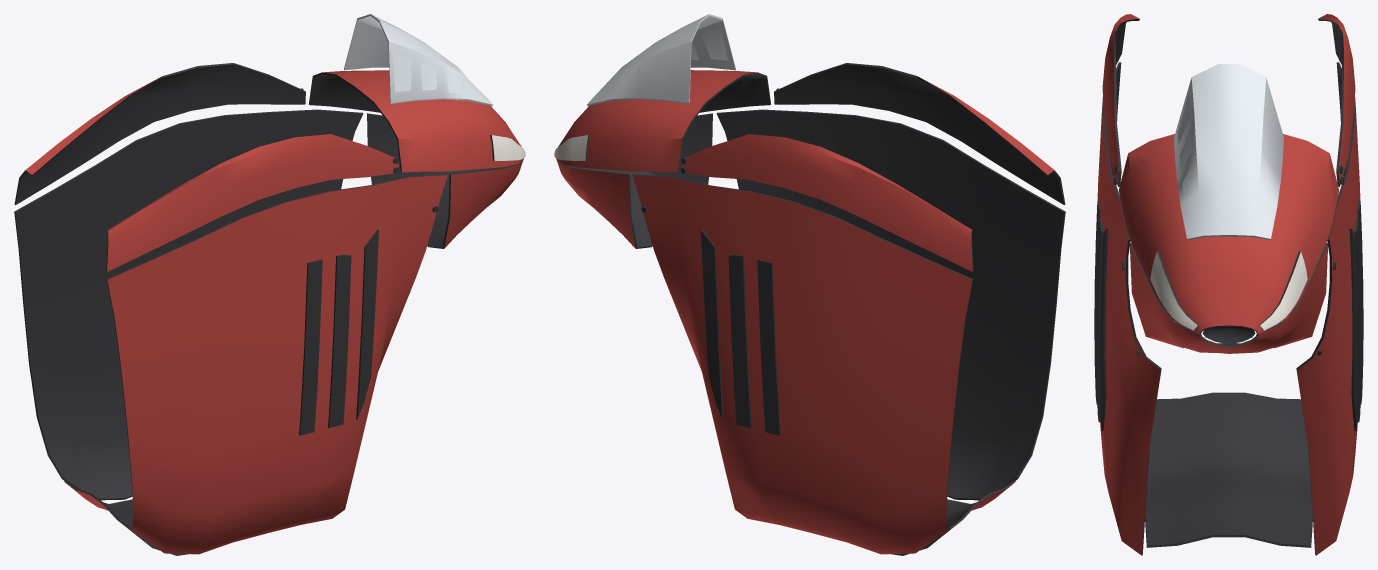
Rendered from sport_lod1.glb.
3 views of the same model, side by side, from view 1: azimuth 30°, elevation 25°; view 2: azimuth 150°, elevation 25°; view 3: azimuth 270°, elevation 25° (orthographic). The views are drawn at different scales.
Visible parts, largest first — view 1: sport_lod1; view 2: sport_lod1; view 3: sport_lod1.
Boxes of the visible parts, x1,y1,x2,y2 form: sport_lod1: [14, 14, 525, 555]; sport_lod1: [554, 14, 1065, 555]; sport_lod1: [1094, 14, 1363, 555].
Size of the model in its own units: 1.01 by 0.9817 by 0.4422.
